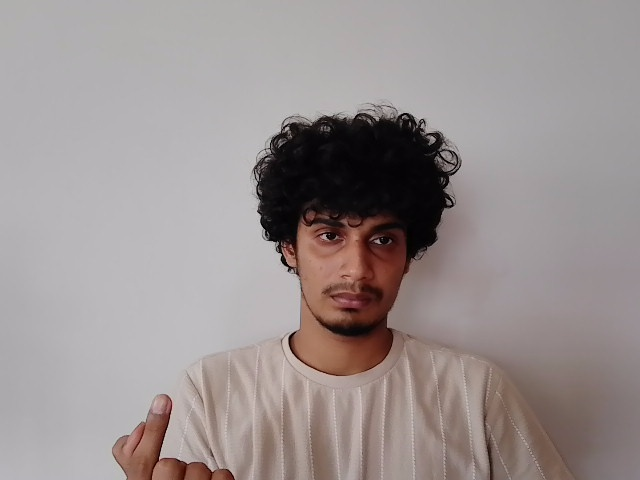just: (115, 395, 238, 480)
